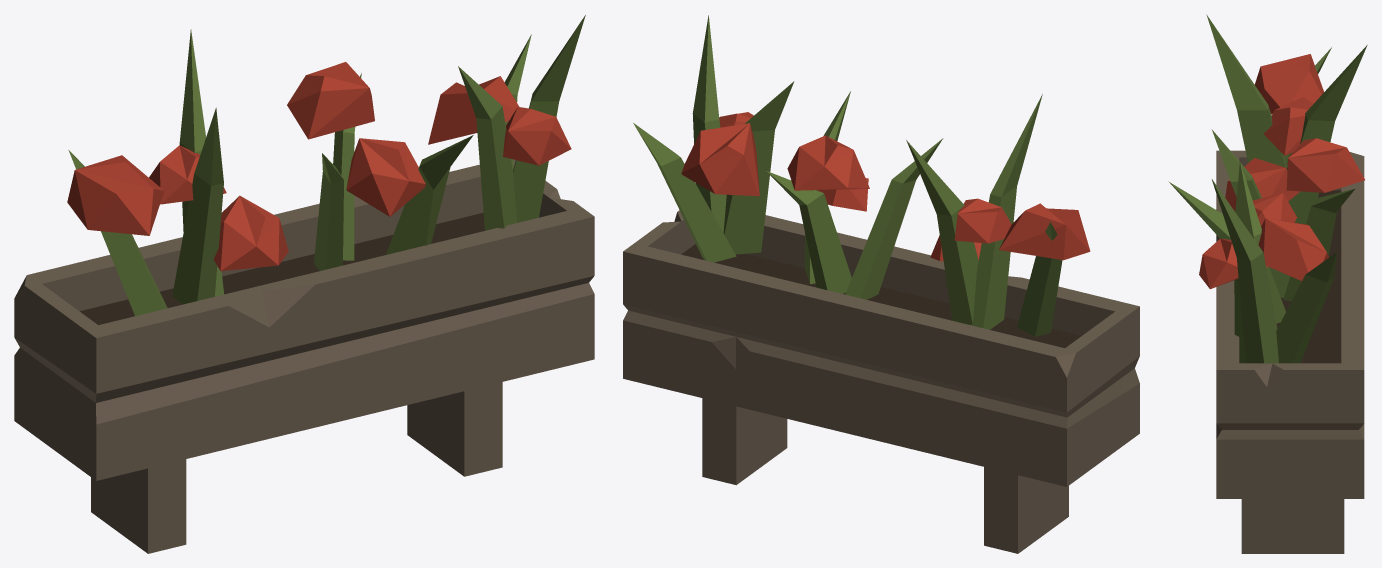
The model's file is SM_Prop_PlanterWindow_02.fbx.
3 renders of one model, left to right at view 1: azimuth 30°, elevation 25°; view 2: azimuth 150°, elevation 25°; view 3: azimuth 270°, elevation 25°, orthographic. The views are drawn at different scales.
Visible parts, largest first — view 1: SM_Prop_PlanterWindow_02; view 2: SM_Prop_PlanterWindow_02; view 3: SM_Prop_PlanterWindow_02.
Part boxes in pixels (left/top/right/bottom): SM_Prop_PlanterWindow_02: left=14, top=15, right=594, bottom=553; SM_Prop_PlanterWindow_02: left=623, top=15, right=1139, bottom=553; SM_Prop_PlanterWindow_02: left=1168, top=14, right=1367, bottom=553.
Bounding box in the file's own units: 86.97 × 74.33 × 33.19.
